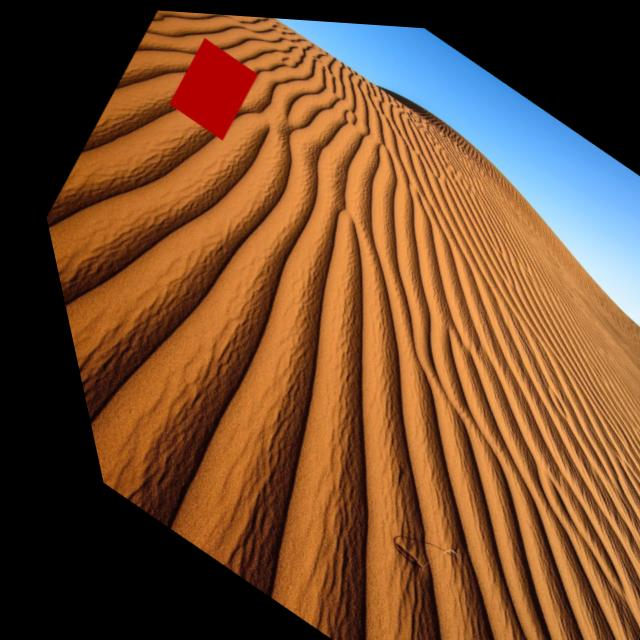RedSquare: (147, 26, 273, 145)
